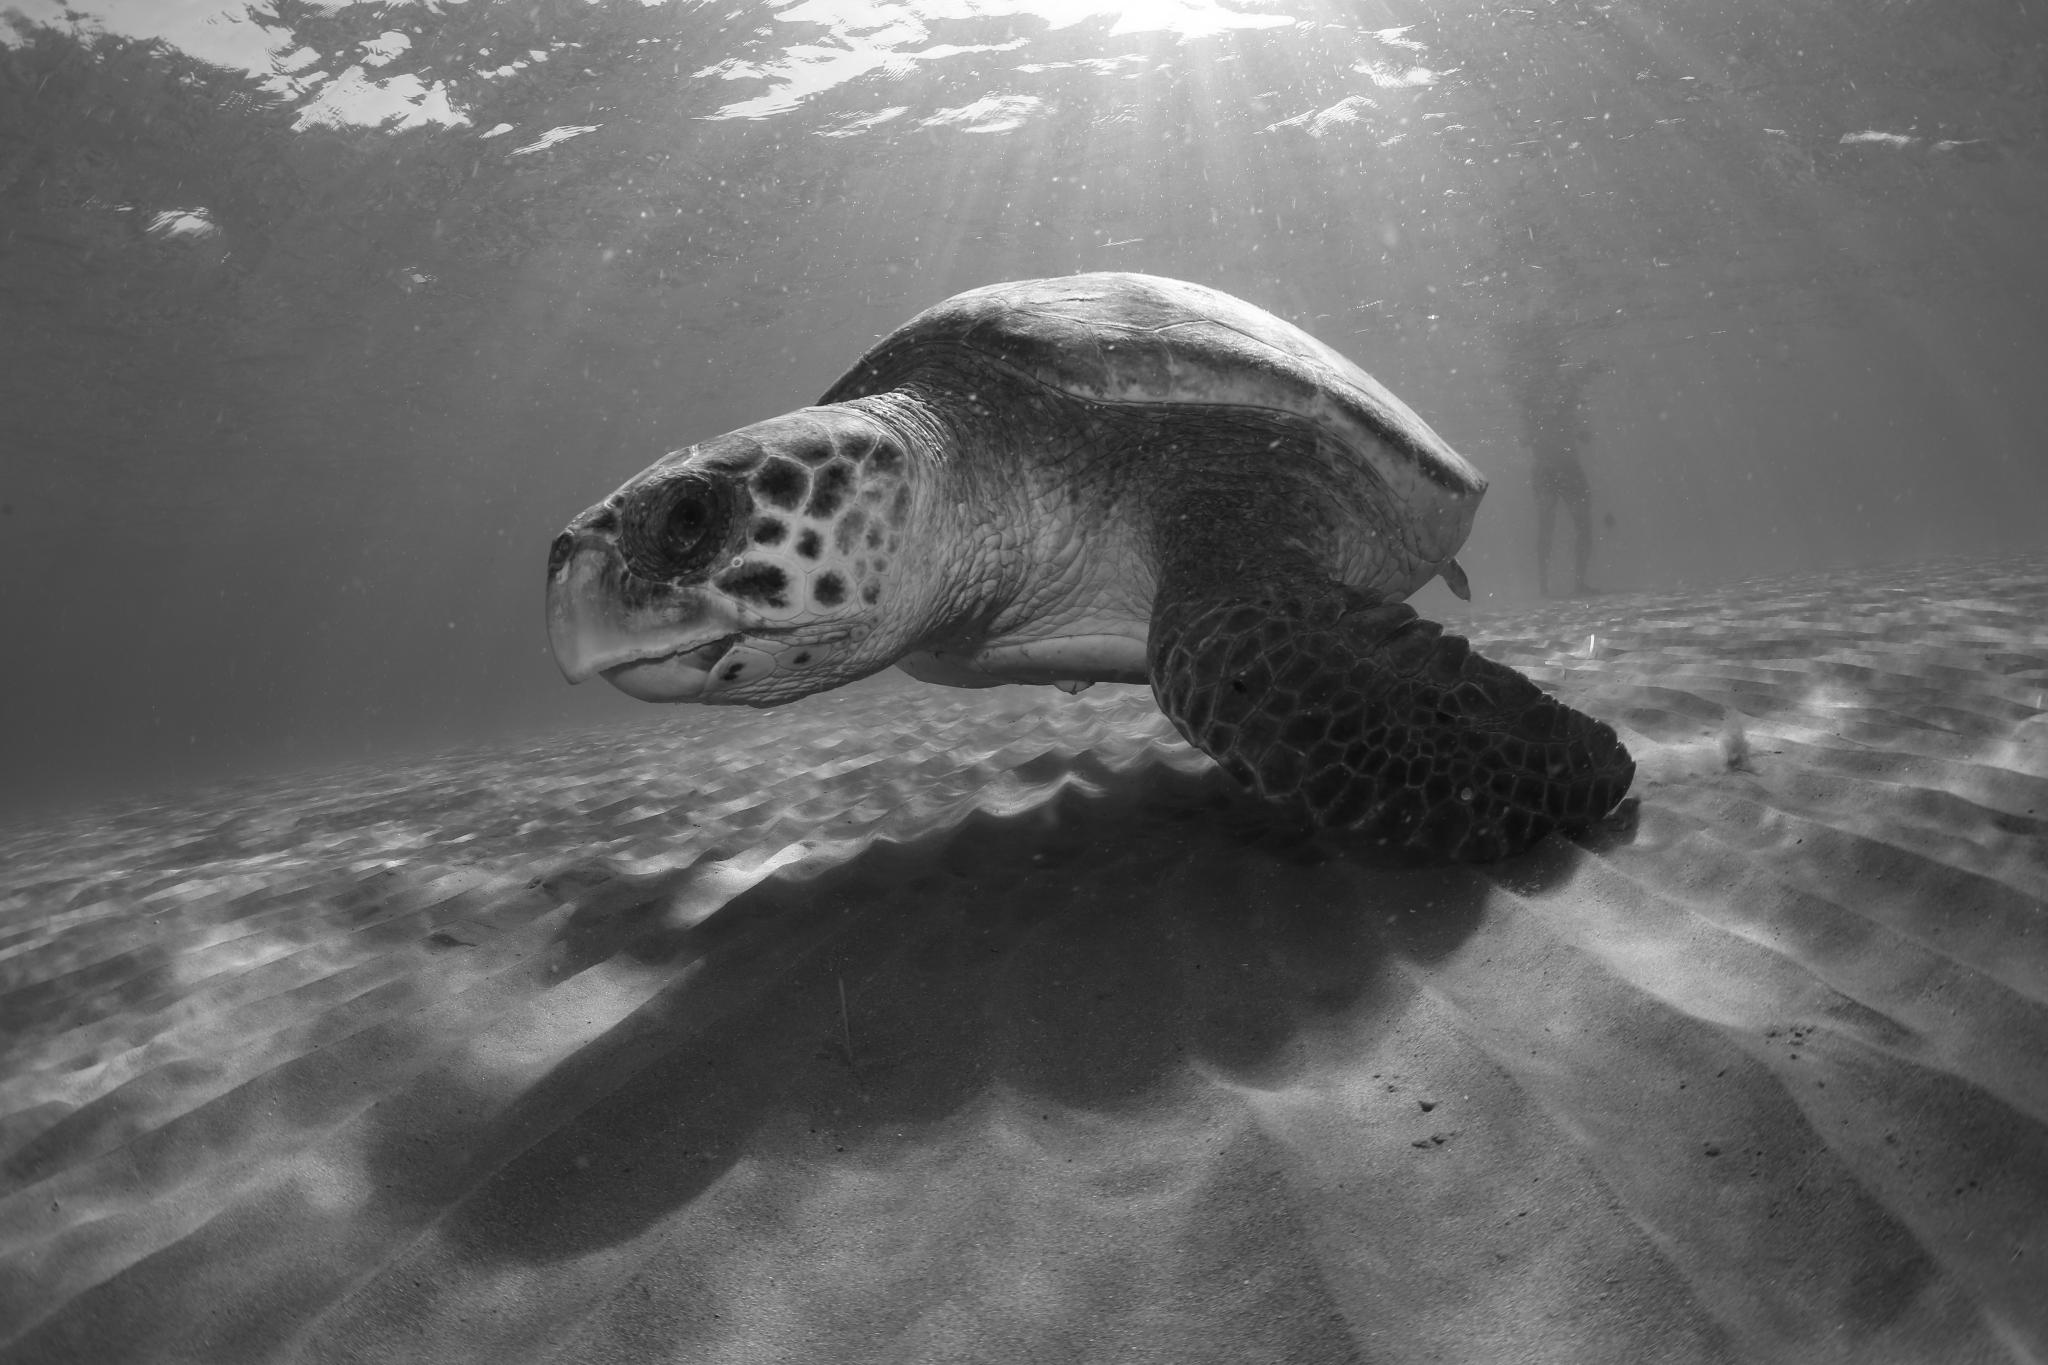Head: (547, 390, 1036, 708)
